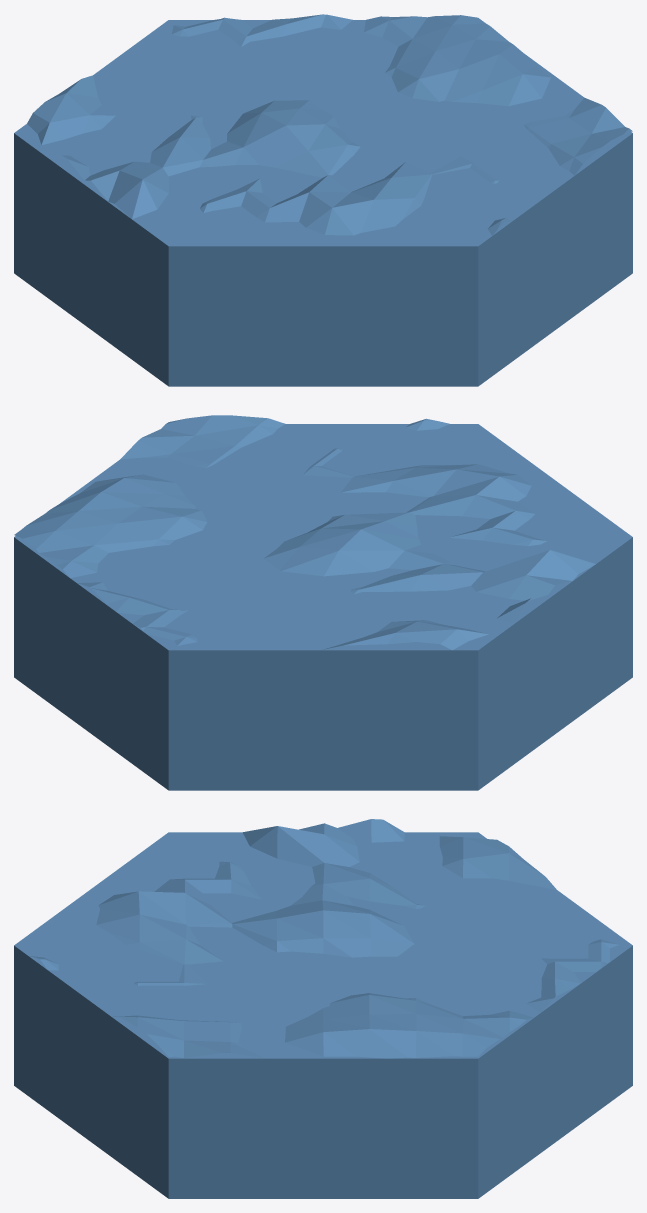
The model's file is water.glb.
3 renders of one model, top to bottom at view 1: azimuth 30°, elevation 25°; view 2: azimuth 150°, elevation 25°; view 3: azimuth 270°, elevation 25°, orthographic.
Visible parts, largest first — view 1: Node; view 2: Node; view 3: Node.
Boxes of the visible parts, <box> form: Node: <box>14,14,632,386</box>; Node: <box>14,415,632,790</box>; Node: <box>14,819,632,1198</box>.
Size of the model in its own units: 1.73 by 0.5718 by 2.
